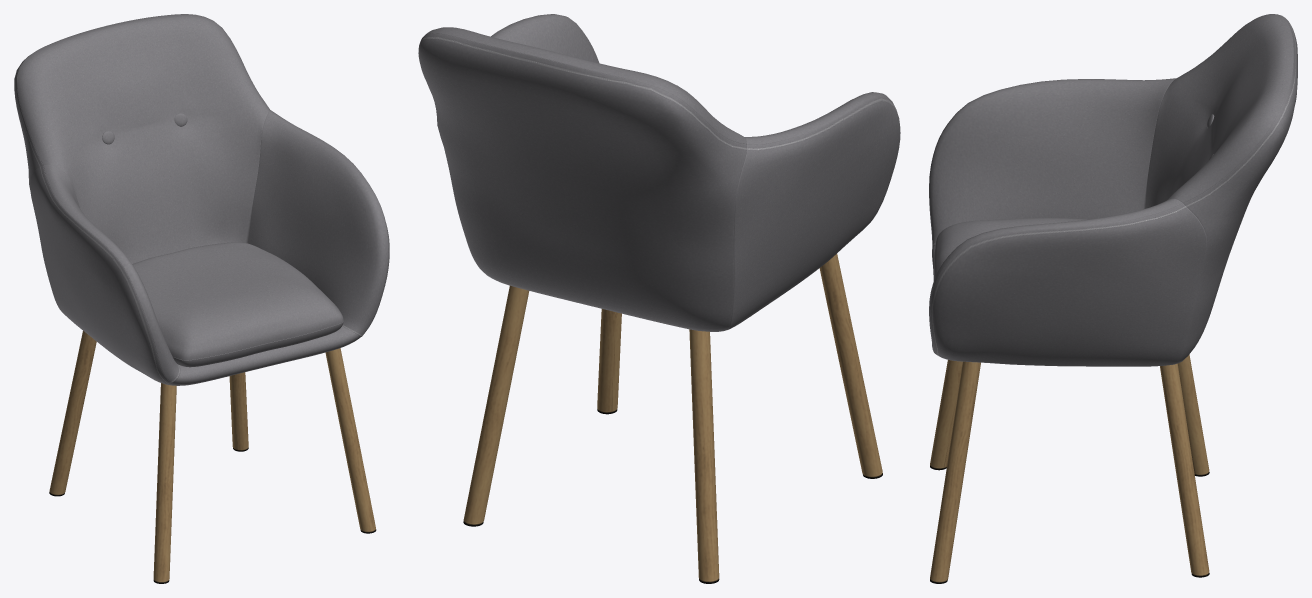
The model's file is B08G1YWN8L.glb.
3 views of the same model, side by side, from view 1: azimuth 30°, elevation 25°; view 2: azimuth 150°, elevation 25°; view 3: azimuth 270°, elevation 25° (orthographic). The views are drawn at different scales.
Visible parts, largest first — view 1: RootNode; view 2: RootNode; view 3: RootNode.
Boxes of the visible parts, x1,y1,x2,y2 form: RootNode: [14, 14, 389, 583]; RootNode: [418, 14, 900, 583]; RootNode: [929, 14, 1297, 583].
Size of the model in its own units: 0.57 by 0.83 by 0.59.
1 material, 1 textured.
